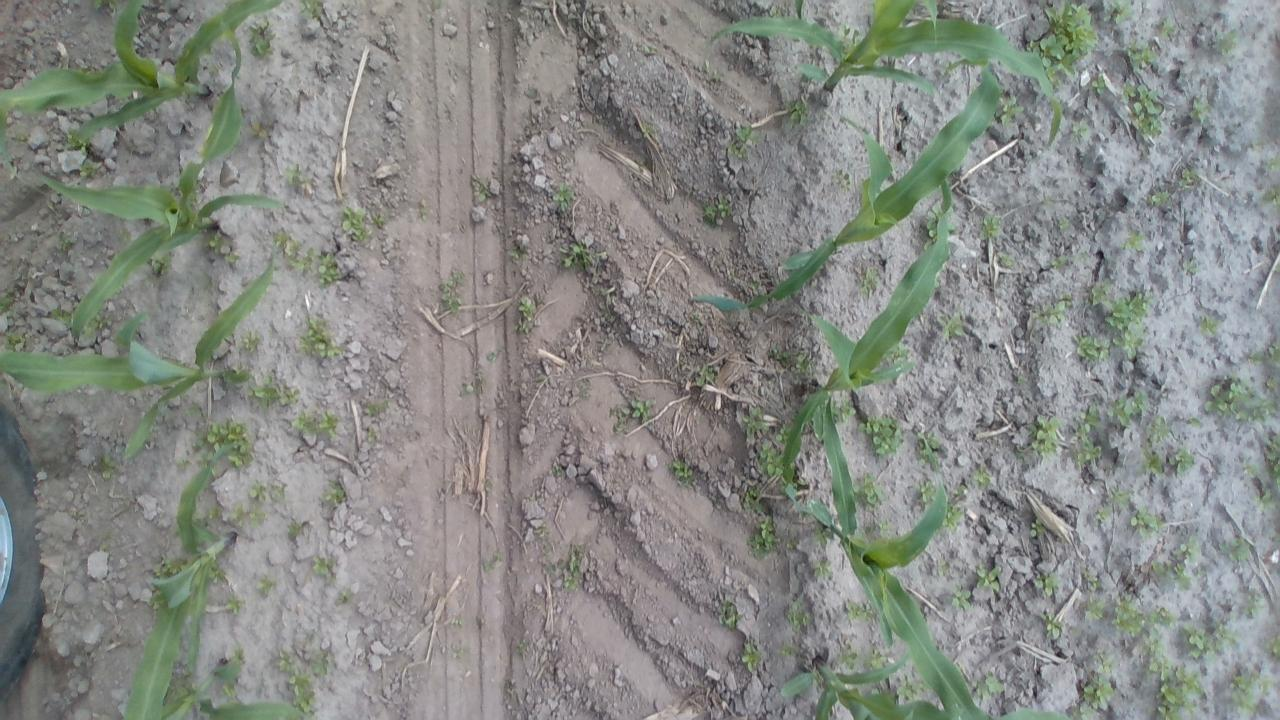Maize: (36, 16, 288, 344), (688, 53, 998, 315), (773, 168, 960, 518), (811, 389, 989, 720), (2, 255, 274, 464), (709, 3, 1066, 132), (2, 2, 283, 159), (123, 434, 235, 720), (781, 642, 1079, 720), (153, 657, 314, 718)
Weeds: (1034, 3, 1098, 72), (1146, 530, 1210, 592), (1204, 376, 1280, 423), (1106, 290, 1152, 362), (1148, 660, 1203, 719), (1132, 624, 1170, 676), (1130, 83, 1164, 140), (204, 421, 252, 460), (299, 316, 341, 359), (1183, 622, 1230, 660), (1231, 670, 1269, 716), (862, 416, 902, 459), (1107, 391, 1149, 427), (246, 371, 289, 406), (290, 408, 339, 437), (509, 292, 537, 342), (278, 228, 310, 270), (1112, 593, 1142, 635), (559, 244, 604, 272), (714, 594, 746, 632), (1030, 416, 1060, 456), (290, 668, 316, 714), (1038, 294, 1072, 329), (1030, 568, 1065, 602), (1263, 421, 1280, 489), (853, 474, 887, 508), (560, 541, 583, 590), (748, 516, 776, 556), (316, 476, 348, 511), (468, 168, 496, 208), (1080, 676, 1114, 708), (247, 22, 277, 58), (1074, 333, 1110, 363), (314, 249, 340, 289), (730, 125, 759, 159), (736, 640, 764, 675), (441, 271, 464, 313), (917, 431, 943, 468), (339, 206, 369, 238), (1126, 40, 1158, 70), (452, 370, 486, 398), (1129, 508, 1163, 536), (1120, 226, 1150, 257), (704, 194, 732, 227), (623, 399, 651, 430), (1074, 404, 1100, 437), (535, 541, 559, 576), (1106, 481, 1136, 509), (974, 672, 1004, 700), (606, 404, 632, 436), (758, 442, 782, 476), (740, 408, 770, 435), (934, 312, 964, 339), (1144, 414, 1171, 444), (280, 160, 310, 186), (478, 548, 508, 574), (1245, 342, 1280, 364), (1170, 447, 1198, 474), (811, 520, 836, 550), (232, 504, 266, 526), (297, 0, 328, 24), (1256, 485, 1280, 516), (839, 640, 862, 672), (200, 231, 227, 258), (248, 112, 274, 140), (896, 672, 924, 698), (598, 286, 616, 326), (254, 568, 276, 600), (1025, 515, 1050, 543), (1068, 118, 1092, 147), (1255, 184, 1280, 211), (1076, 440, 1104, 464), (785, 600, 809, 628), (831, 166, 852, 198), (309, 648, 332, 677), (1140, 449, 1166, 474), (832, 395, 856, 422), (810, 553, 834, 580), (860, 517, 894, 536), (553, 183, 576, 211), (152, 556, 184, 576), (1105, 0, 1134, 22), (1144, 609, 1174, 630), (361, 398, 391, 419), (1224, 537, 1251, 560), (856, 266, 878, 294), (1238, 454, 1260, 482), (545, 454, 566, 482), (930, 552, 951, 580), (1082, 599, 1107, 622), (284, 521, 308, 544), (976, 567, 1000, 590), (1188, 97, 1210, 122), (672, 460, 694, 485), (1000, 98, 1021, 124), (944, 505, 965, 531), (788, 98, 808, 125), (883, 344, 910, 364), (96, 453, 115, 481), (1216, 30, 1238, 54), (1198, 313, 1222, 335), (504, 238, 526, 262), (1089, 281, 1110, 306), (1143, 186, 1169, 206), (1264, 628, 1280, 660), (1118, 76, 1135, 106), (1096, 650, 1118, 673), (980, 214, 1001, 238), (55, 229, 75, 254), (953, 586, 972, 612), (484, 342, 506, 364), (739, 486, 760, 509), (1178, 166, 1198, 190), (3, 330, 27, 350), (76, 159, 100, 179), (792, 352, 812, 376), (64, 132, 90, 150), (574, 374, 592, 400), (994, 250, 1016, 271), (776, 638, 799, 658), (916, 480, 934, 505), (98, 528, 116, 553), (1067, 704, 1095, 720), (369, 209, 390, 230), (1089, 73, 1109, 95), (313, 555, 333, 577), (1044, 616, 1064, 638), (222, 248, 244, 268), (424, 0, 444, 22), (148, 588, 168, 610), (228, 646, 248, 668), (636, 120, 658, 140), (846, 602, 869, 621), (839, 25, 860, 45), (696, 364, 716, 385), (1082, 569, 1102, 590), (1157, 16, 1176, 38), (154, 254, 173, 276), (242, 330, 261, 352), (926, 210, 940, 238), (183, 404, 206, 421), (972, 466, 992, 485), (225, 592, 244, 612), (866, 648, 885, 668), (282, 387, 302, 406), (449, 610, 468, 630), (686, 309, 706, 328), (271, 481, 289, 502), (592, 487, 610, 508), (1263, 151, 1280, 173), (1244, 593, 1260, 616), (49, 306, 72, 322), (516, 636, 532, 659), (1184, 254, 1200, 277), (250, 482, 268, 502), (940, 59, 960, 77), (0, 292, 15, 316), (782, 536, 802, 554), (1010, 367, 1030, 385), (276, 650, 294, 669), (449, 642, 467, 661), (706, 490, 724, 509), (1047, 252, 1066, 270), (415, 196, 428, 222), (119, 223, 135, 244), (218, 684, 239, 700), (1093, 505, 1109, 525), (90, 0, 118, 11), (190, 428, 204, 450), (533, 519, 550, 537), (1250, 136, 1268, 153), (210, 565, 226, 584), (1012, 442, 1028, 461), (1038, 190, 1054, 209), (334, 588, 351, 605), (1054, 212, 1070, 230), (522, 84, 540, 100), (85, 322, 99, 342), (480, 477, 494, 496), (176, 456, 192, 472), (204, 506, 220, 522), (955, 482, 970, 499), (11, 130, 26, 146), (365, 426, 377, 446), (1184, 415, 1200, 430), (504, 680, 517, 698), (533, 370, 548, 385), (771, 349, 787, 363), (304, 628, 318, 644), (642, 43, 658, 56), (712, 68, 725, 84), (1072, 252, 1092, 262), (1269, 532, 1280, 550), (748, 278, 762, 292), (95, 314, 106, 330), (1069, 624, 1082, 637), (207, 62, 220, 74), (704, 52, 710, 74), (530, 491, 540, 503)
